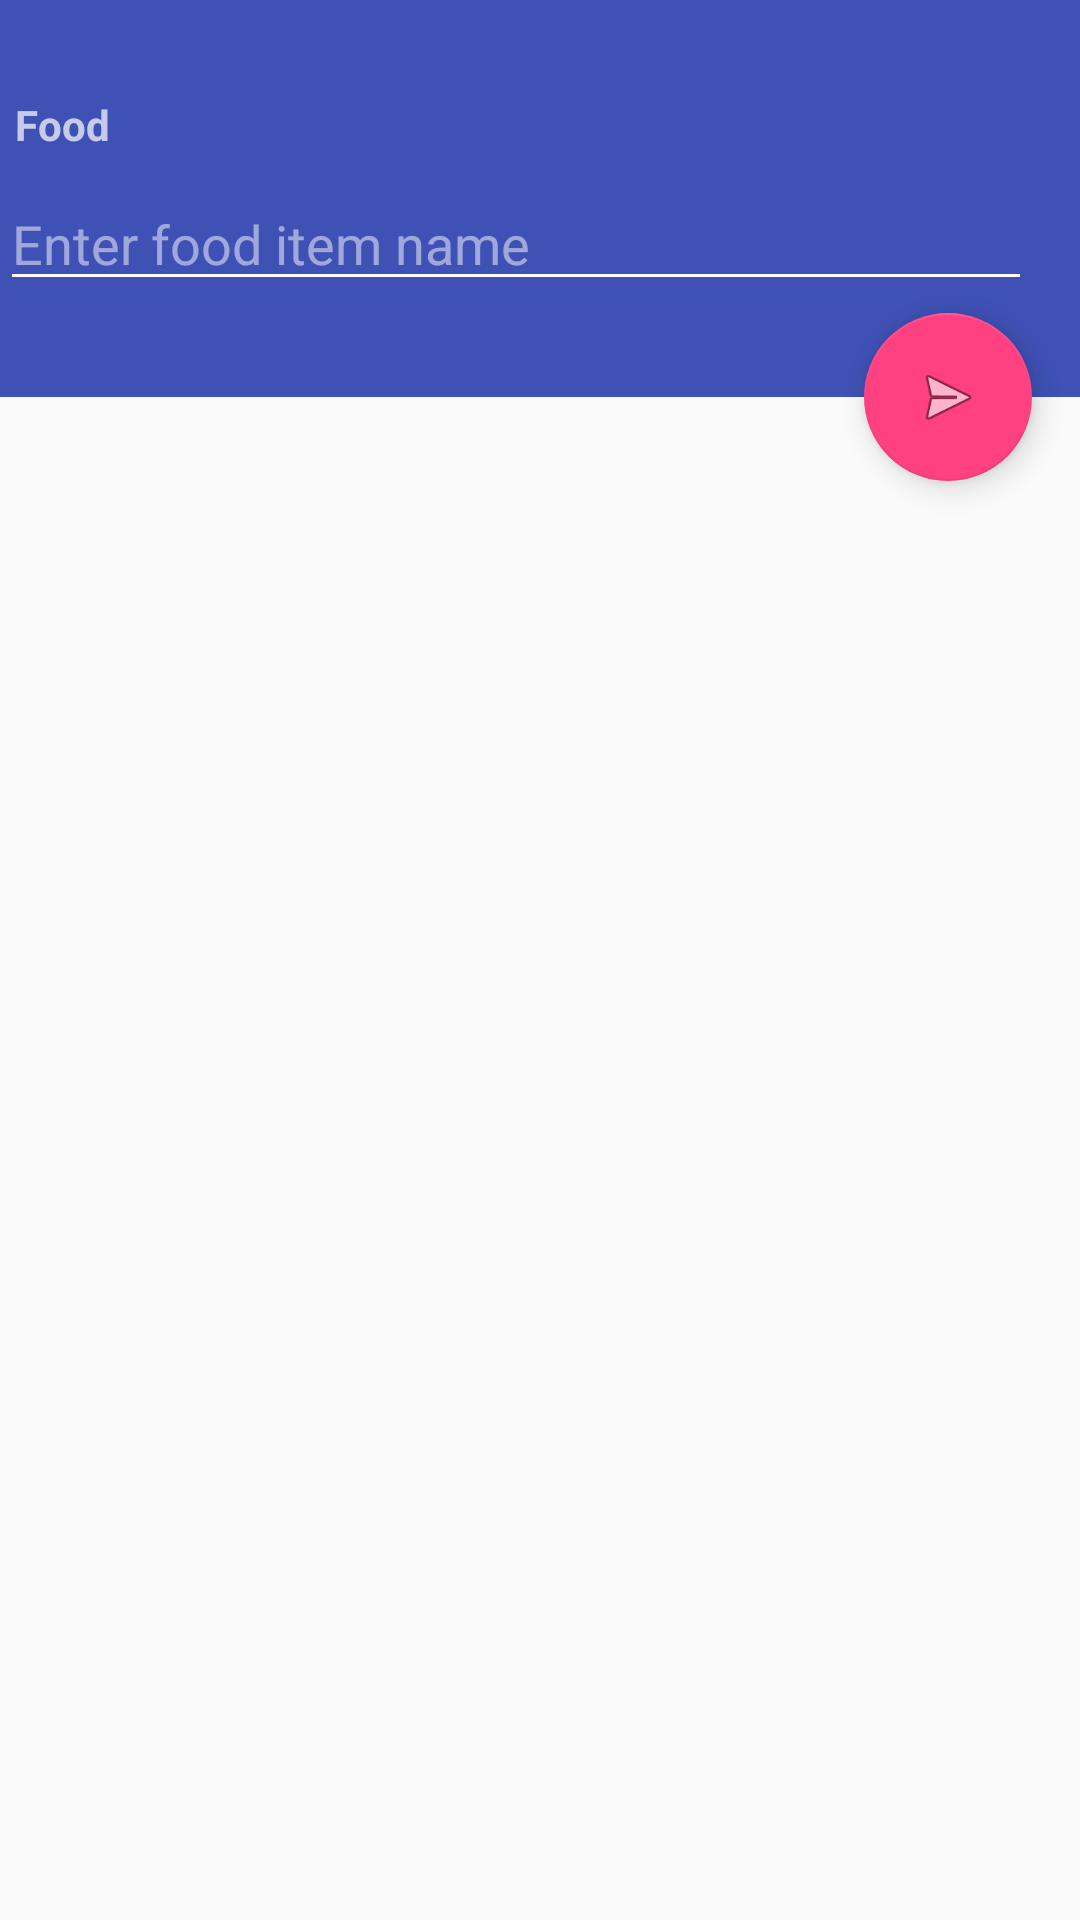

Named icons in this screenshot (1080×1920) and their centers, [x,y]:
send: [948,397]
